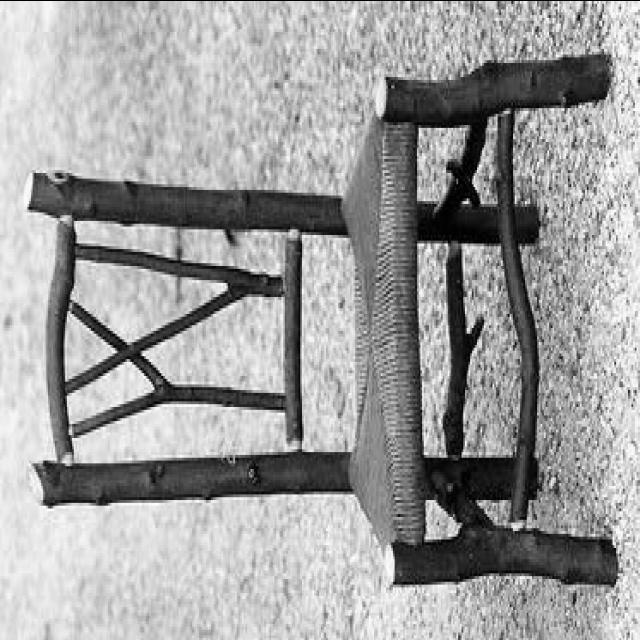chair: (23, 49, 615, 585)
